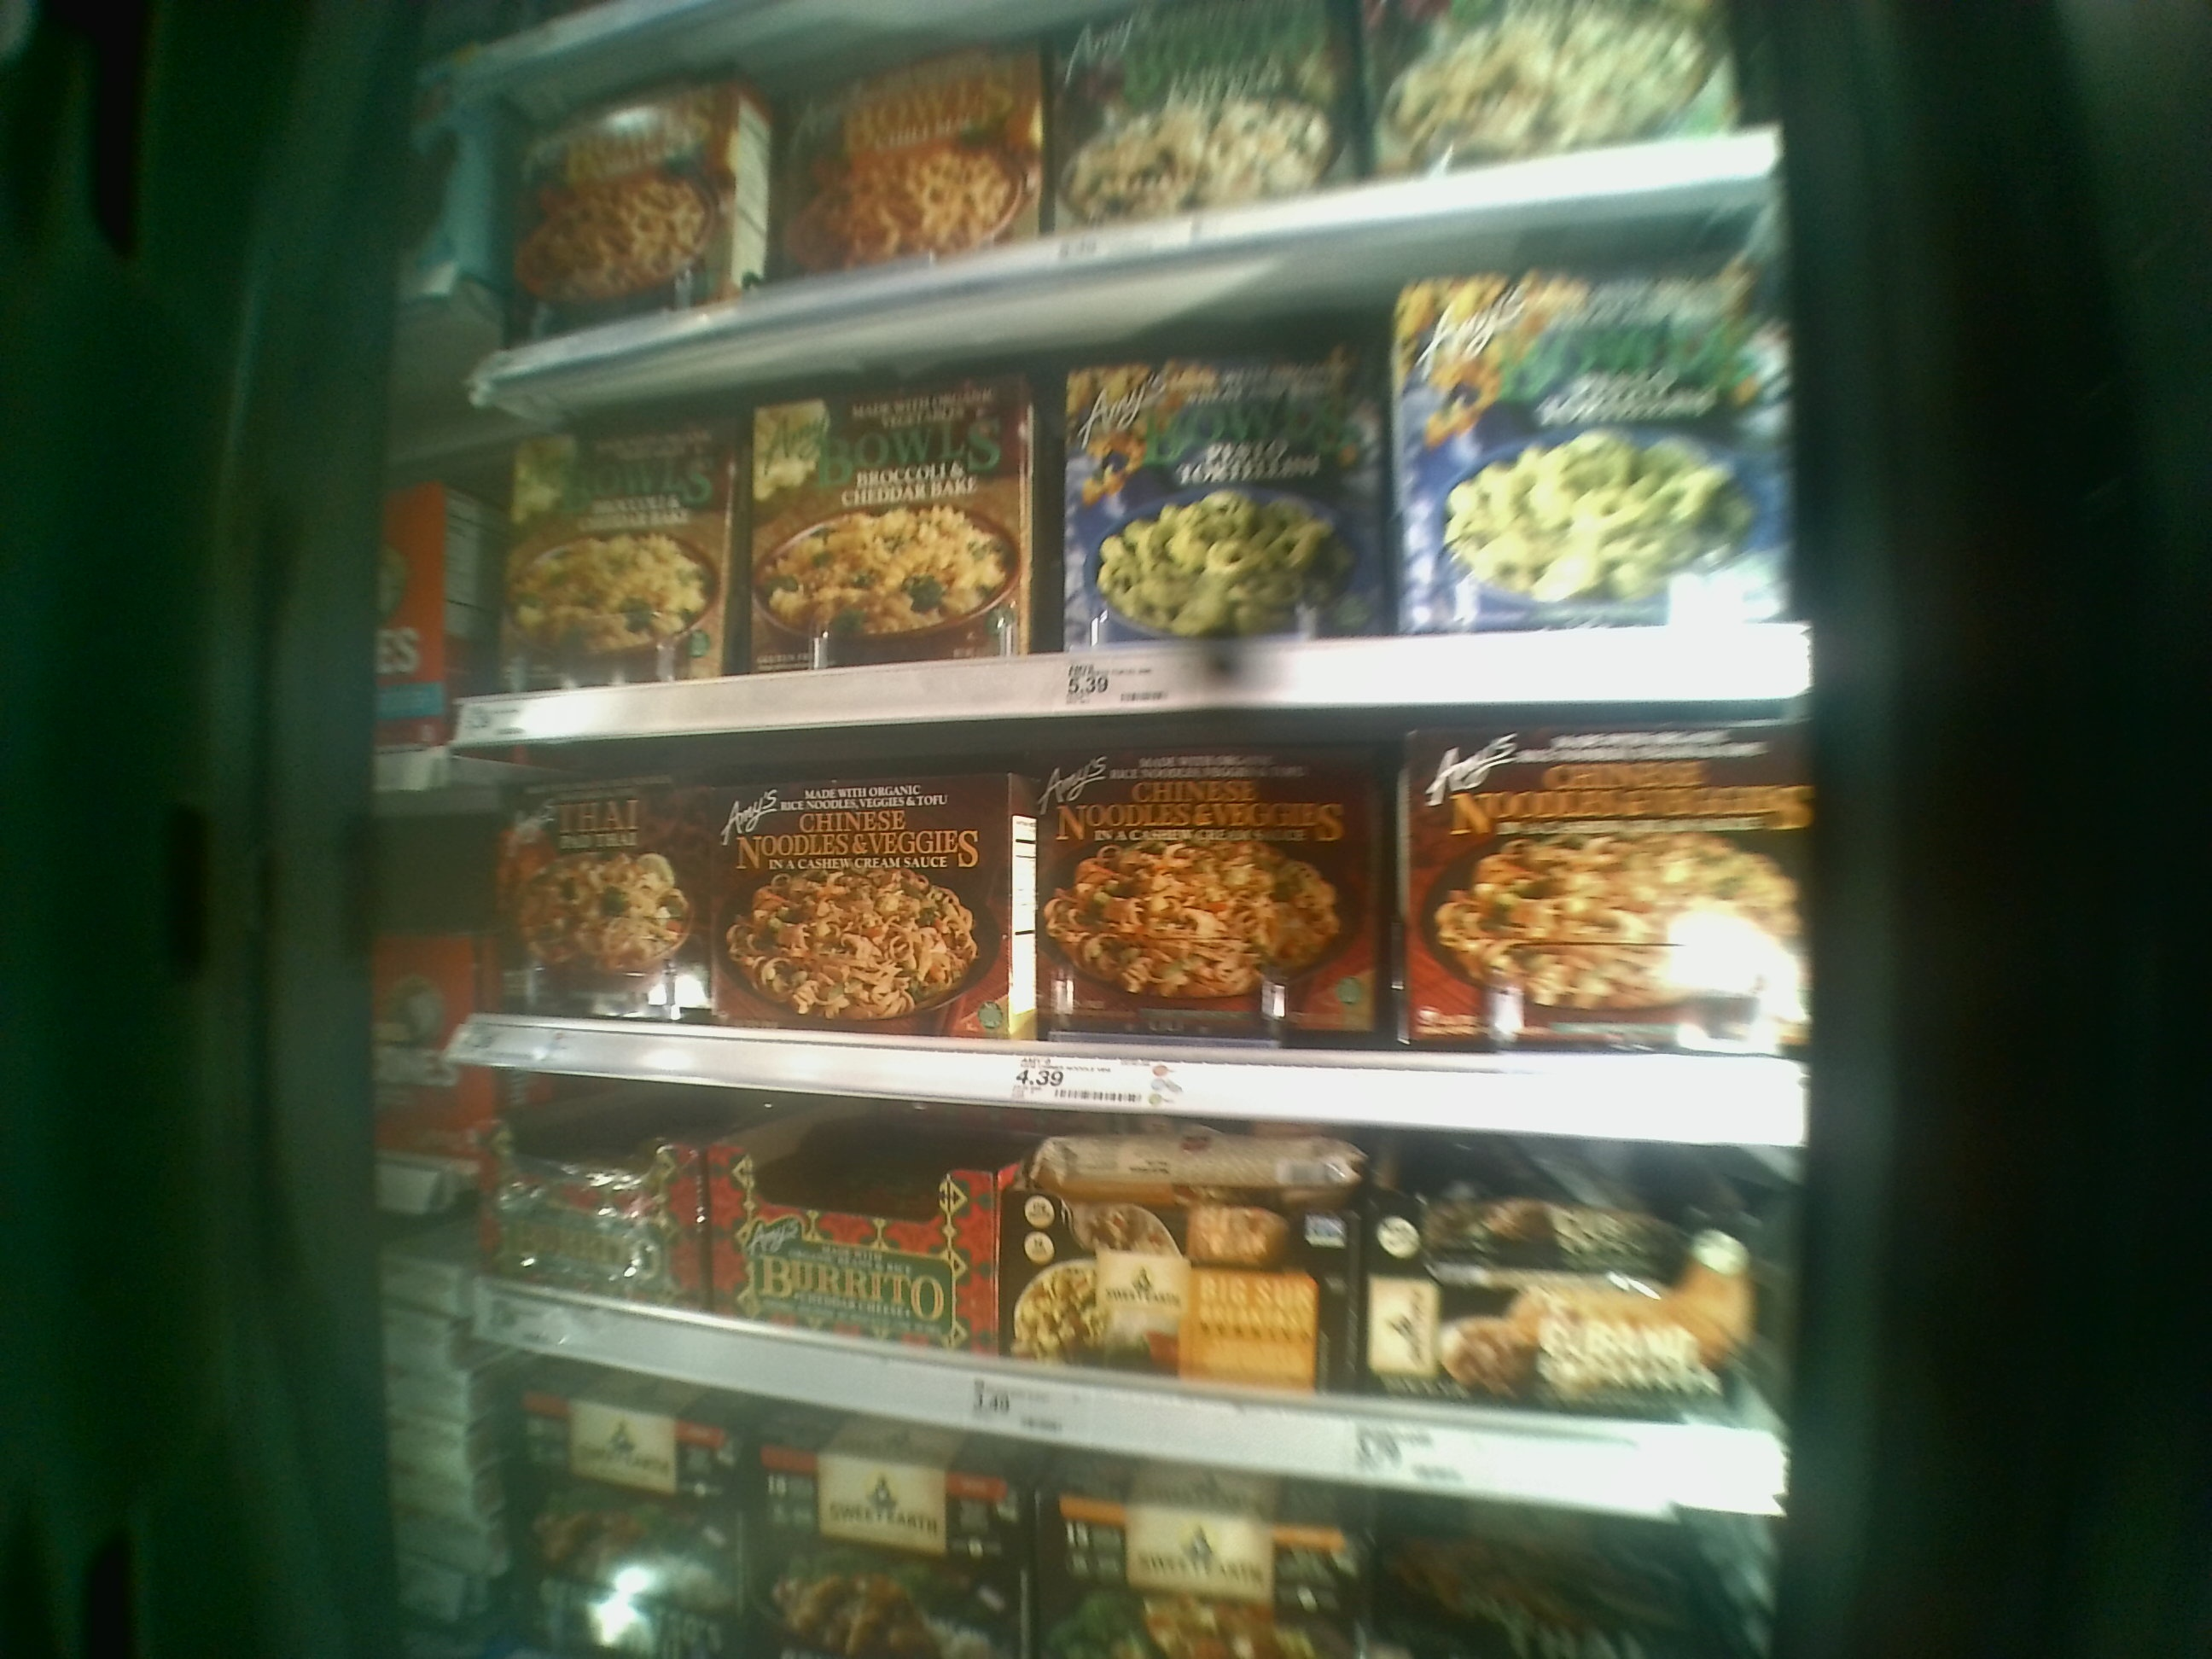frozen-food-shelf: (446, 375, 1817, 758), (439, 772, 1832, 1148)
